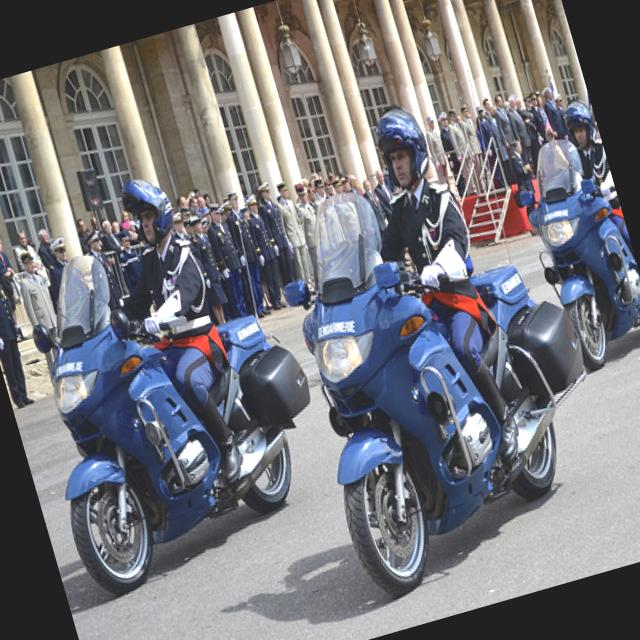Vehicle: (256, 144, 632, 606), (0, 205, 348, 598), (499, 126, 640, 372)
